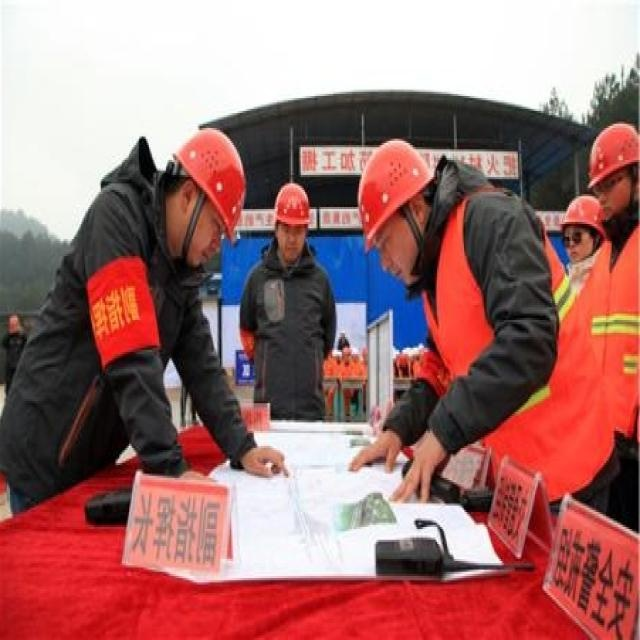Con_Casco: (171, 127, 244, 273), (357, 141, 431, 281), (274, 184, 313, 261)
